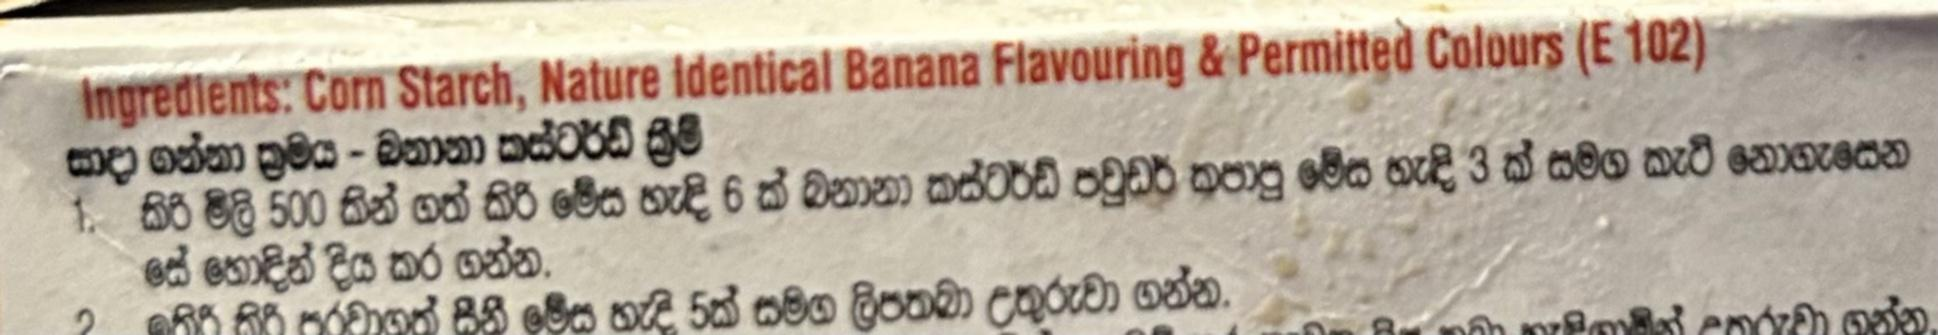ingredients: (62, 15, 1782, 131)
